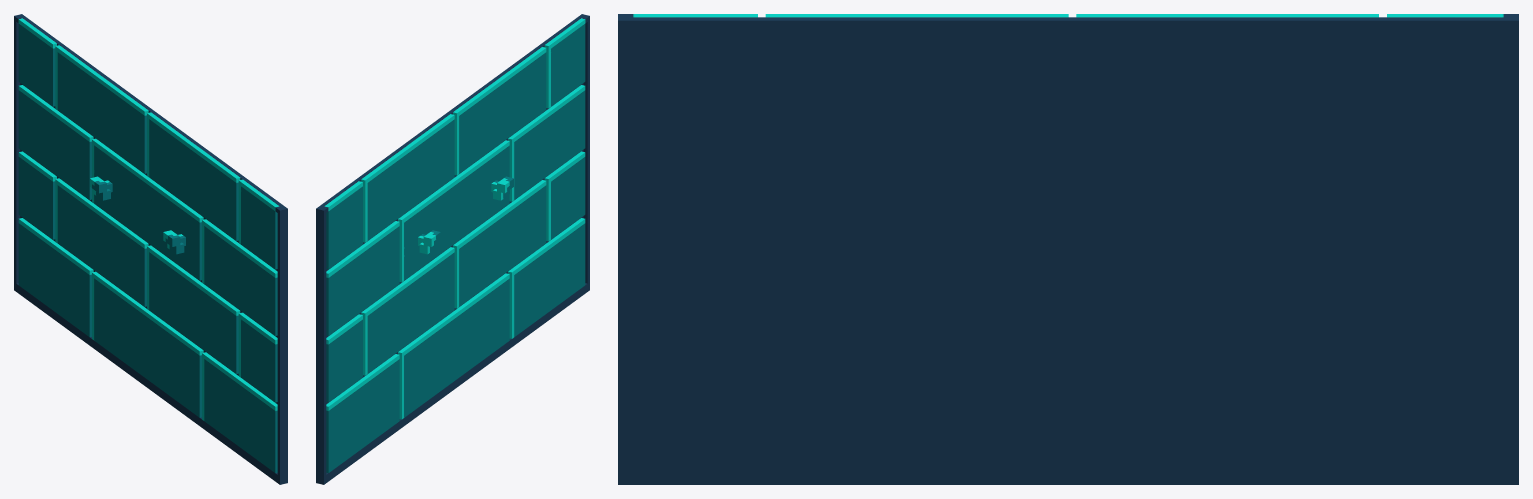
File: ShortWall.glb
3 renders of one model, left to right at view 1: azimuth 30°, elevation 25°; view 2: azimuth 150°, elevation 25°; view 3: azimuth 270°, elevation 25°, orthographic. The views are drawn at different scales.
Parts seen in each view (by area): view 1: ShortWall; view 2: ShortWall; view 3: ShortWall.
Boxes of the visible parts, box(x1,y1,x2,y2) form: ShortWall: box(14, 14, 287, 484); ShortWall: box(316, 14, 589, 484); ShortWall: box(618, 14, 1518, 484).
Size of what is drawn, in the model's own units: 0.6 by 6.6 by 11.6.
Materials: 1 (1 with a texture image).
